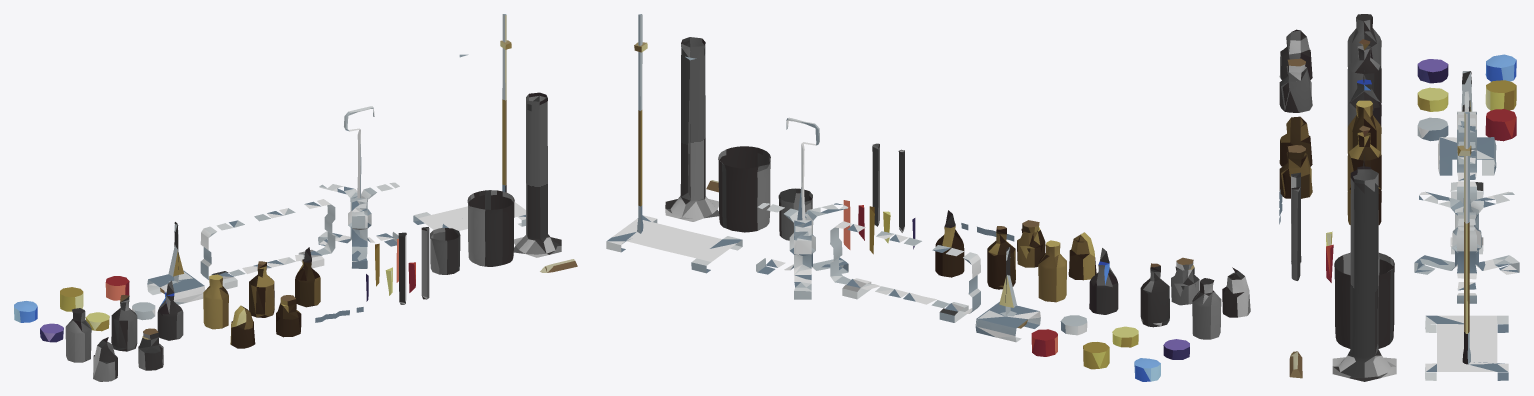
Rendered from chem_hd.glb.
3 views of the same model, side by side, from view 1: azimuth 30°, elevation 25°; view 2: azimuth 150°, elevation 25°; view 3: azimuth 270°, elevation 25° (orthographic). The views are drawn at different scales.
Visible parts, largest first — view 1: mesh; view 2: mesh; view 3: mesh.
Boxes of the visible parts, x1,y1,x2,y2 form: mesh: (14,14,577,381); mesh: (606,14,1250,381); mesh: (1279,14,1519,381).
Bounding box in the file's own units: 1.01 × 0.4 × 0.3304.
1 material, 1 textured.
